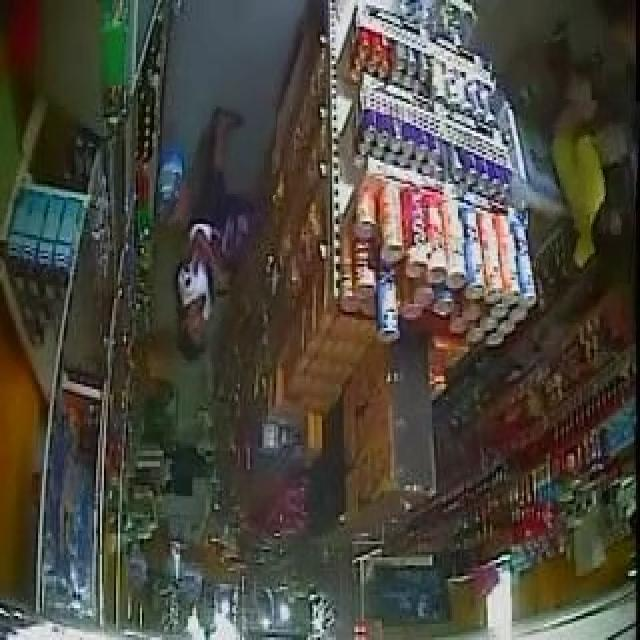normal: (164, 105, 276, 362), (538, 100, 640, 282)
